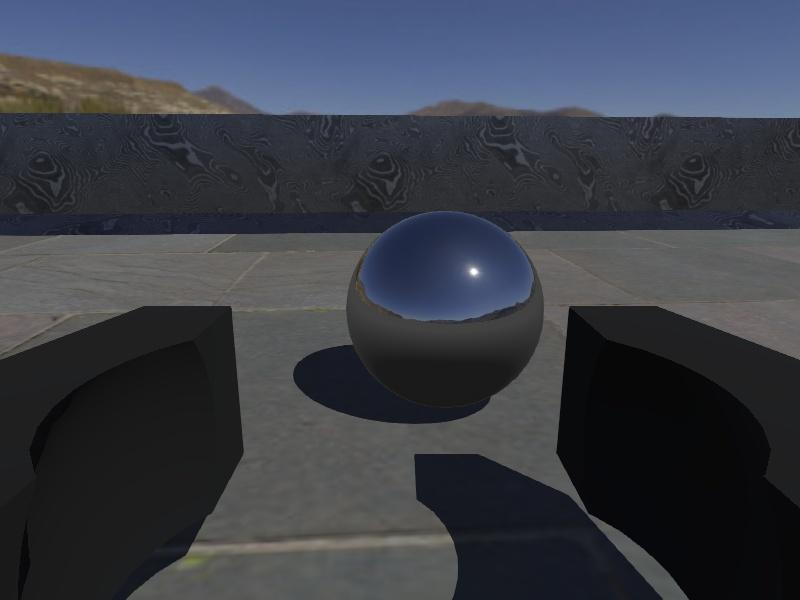steel ball: (345, 209, 544, 408)
